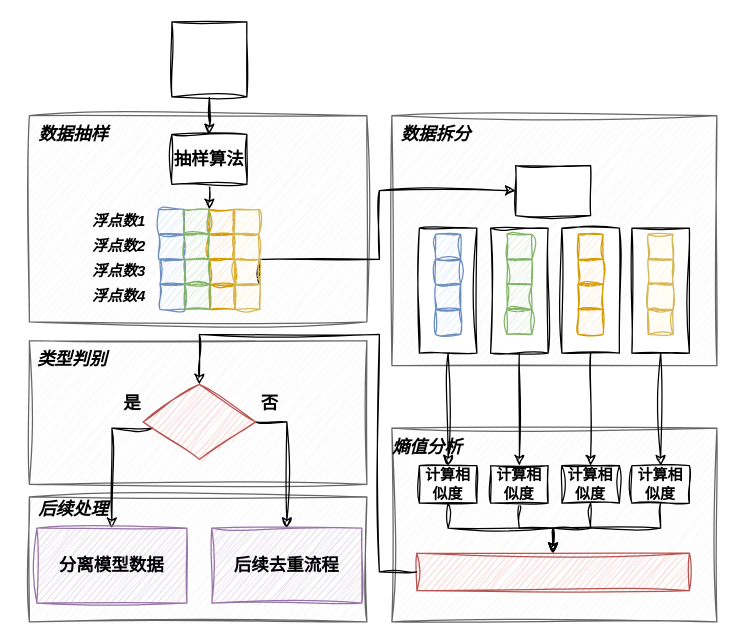
Some shapes in this 739 by 644 pixel diagram are drawn without their labels. Here are the shapes that lost their labels. From the top down, the centre of each, then its label:
At [209,59]: "数据块".
At [552,190]: "循环分组".
At [199,421]: "是否符合 模型特征".
At [552,571]: "循环相似特征".
